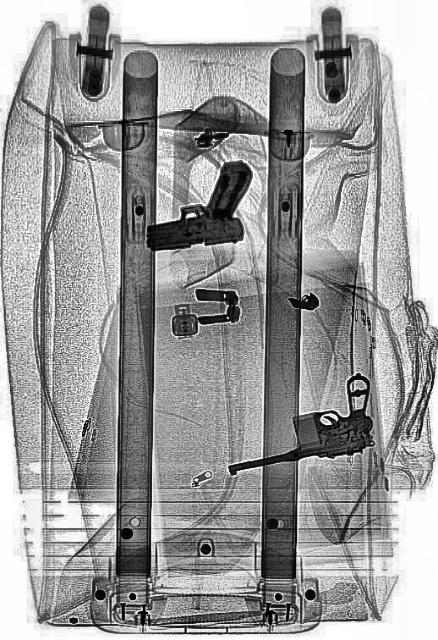Gun: (220, 370, 378, 476), (139, 158, 257, 254)
